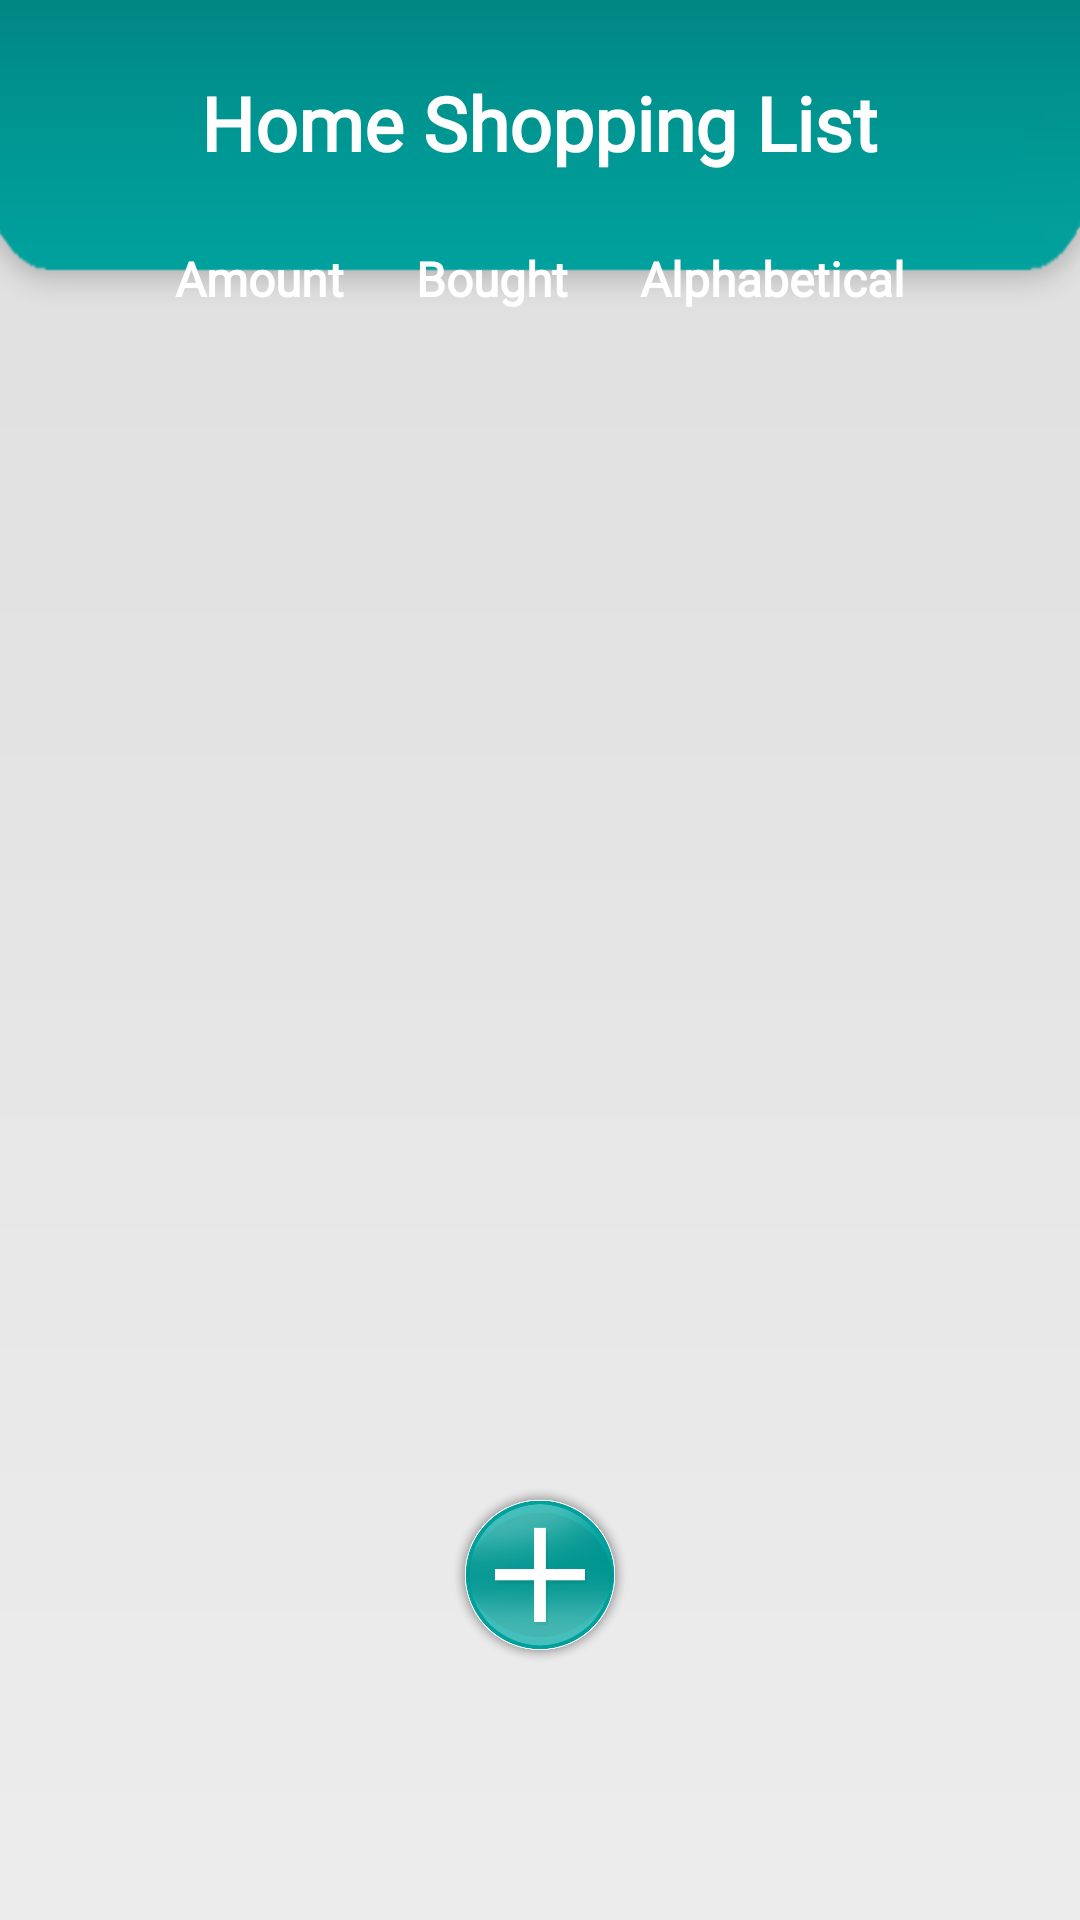

Icon bounding boxes for this 1080*1920 phone screenshot, format (left=x1, top=y1, right=x2, bottom=y2):
plus: (left=460, top=1495, right=620, bottom=1655)
